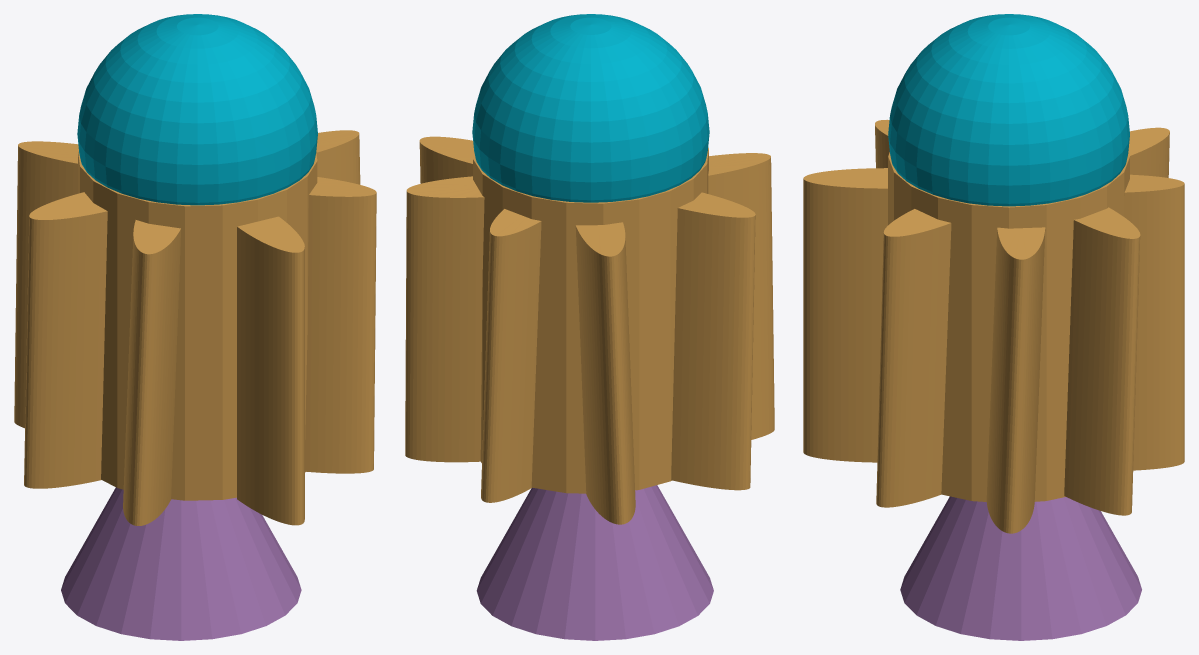
Rendered from erinrocket.glb.
3 renders of one model, left to right at view 1: azimuth 30°, elevation 25°; view 2: azimuth 150°, elevation 25°; view 3: azimuth 270°, elevation 25°, orthographic.
Parts seen in each view (by area): view 1: Mesh_Mesh_head_geo.001_lambert2SG.001; view 2: Mesh_Mesh_head_geo.001_lambert2SG.001; view 3: Mesh_Mesh_head_geo.001_lambert2SG.001.
Part boxes in pixels (x1,y1,x2,y2): Mesh_Mesh_head_geo.001_lambert2SG.001: (14, 14, 376, 640); Mesh_Mesh_head_geo.001_lambert2SG.001: (405, 14, 774, 640); Mesh_Mesh_head_geo.001_lambert2SG.001: (803, 14, 1184, 640).
Bounding box in the file's own units: 32 × 52 × 31.5.
